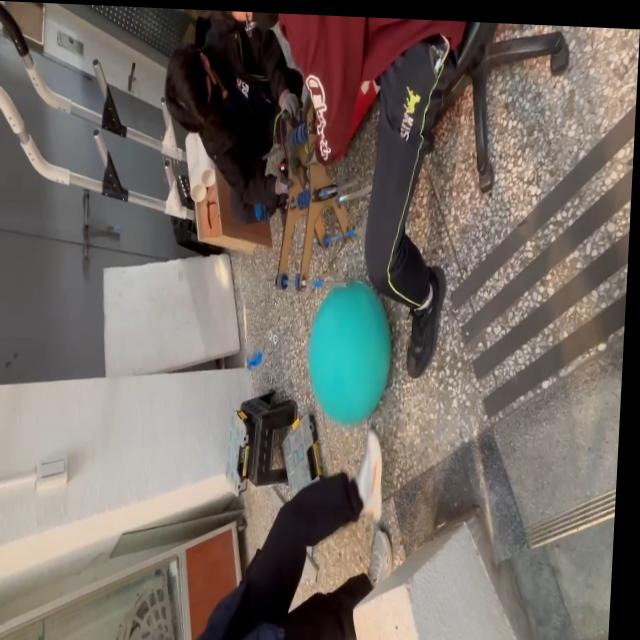ALGAE: (303, 277, 396, 429)
